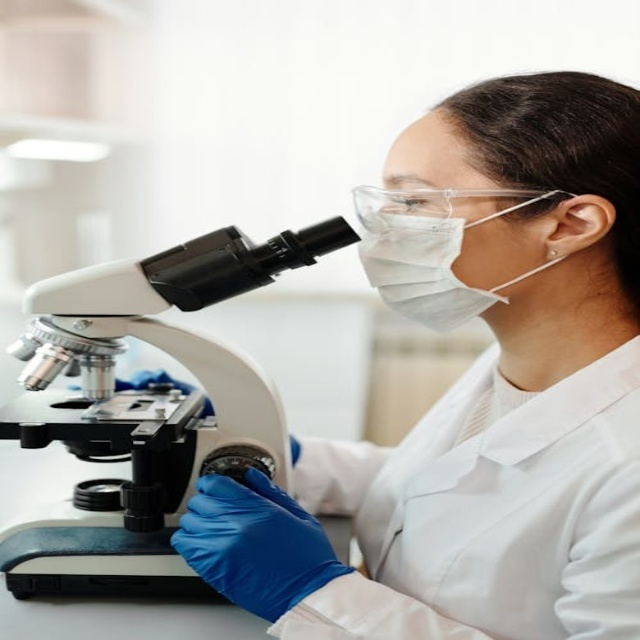Gafas: (348, 184, 575, 237)
Guantes: (161, 461, 360, 626)
Mascara: (355, 187, 573, 330)
